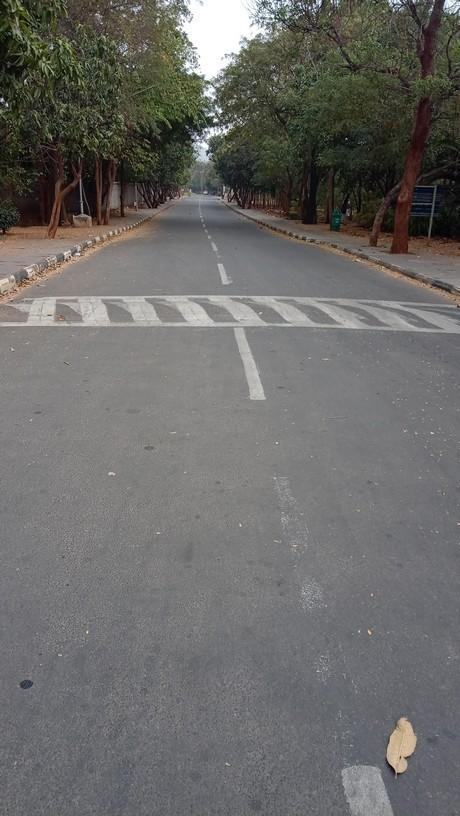speedbreaker: (0, 292, 460, 340)
